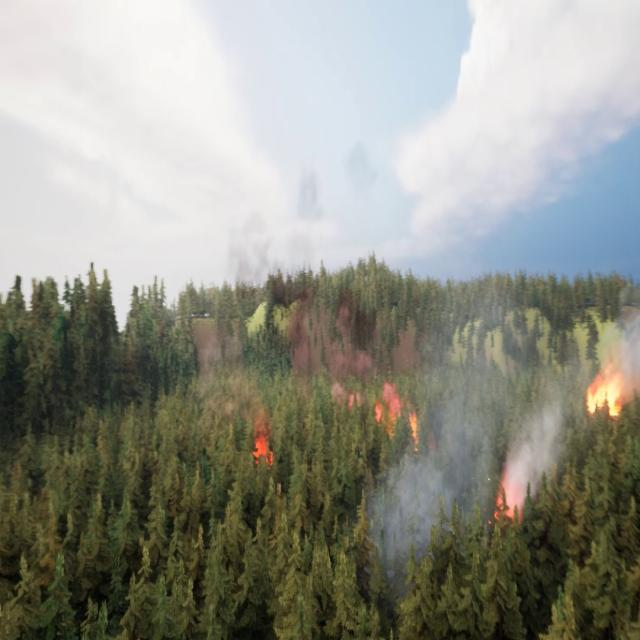fire: (351, 380, 422, 447), (580, 371, 626, 414), (498, 481, 529, 522), (251, 431, 272, 476)
smoke: (363, 277, 503, 587), (499, 378, 570, 519), (612, 301, 640, 395)
